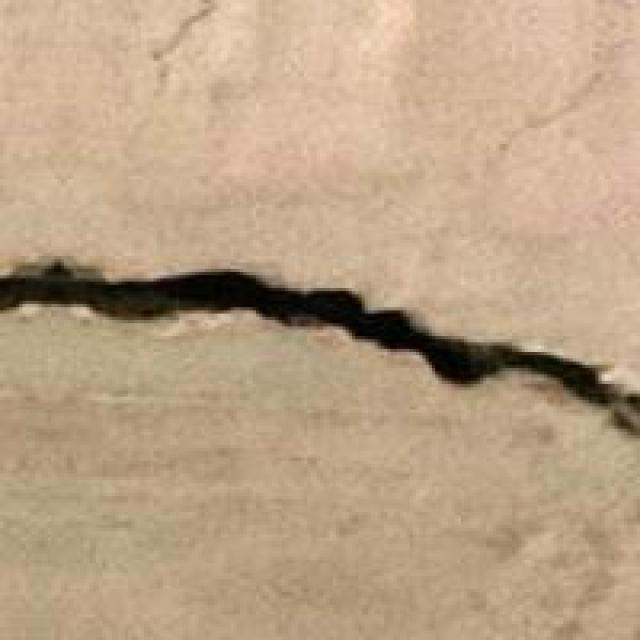crack: (0, 182, 637, 525)
